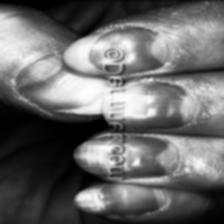Toxin: (132, 90, 152, 118), (120, 146, 138, 170)
